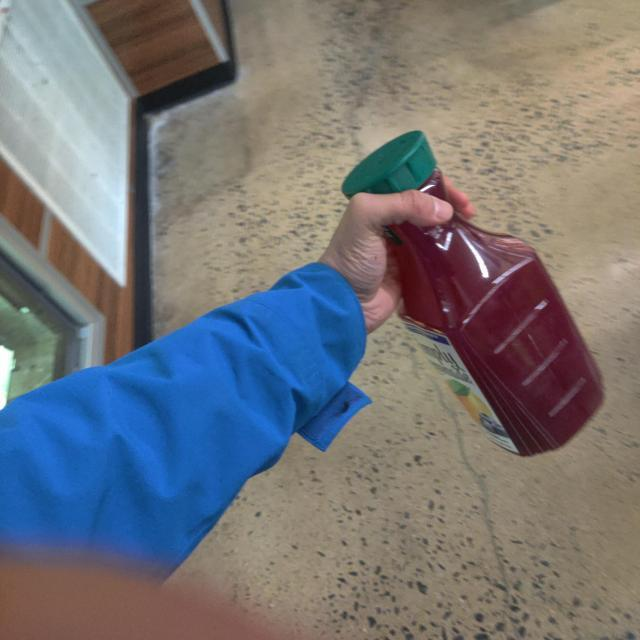Juice: (321, 130, 630, 460)
